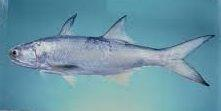Fourfinger Threadfish: (8, 13, 218, 89)
